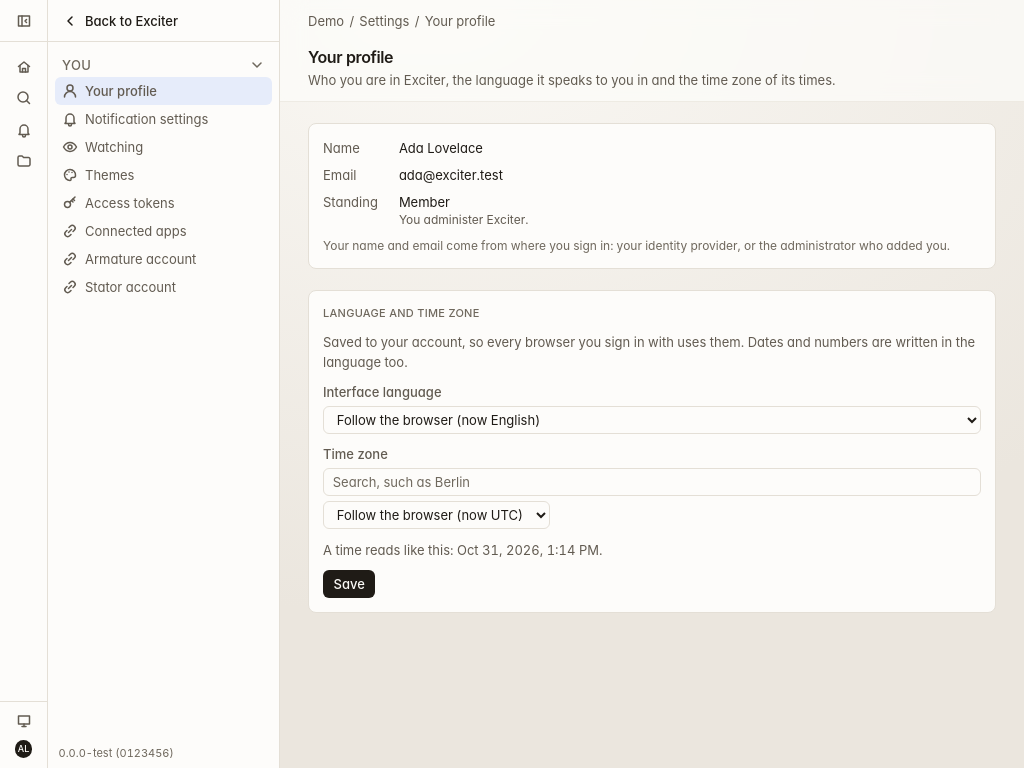
it: the interface language › saves the time zone with the language, and writes times in it
Step 1. Type "tokyo" into the search field with placeholder "Search, such as Berlin" → coordinates (652, 482), box 323,468 -> 981,496
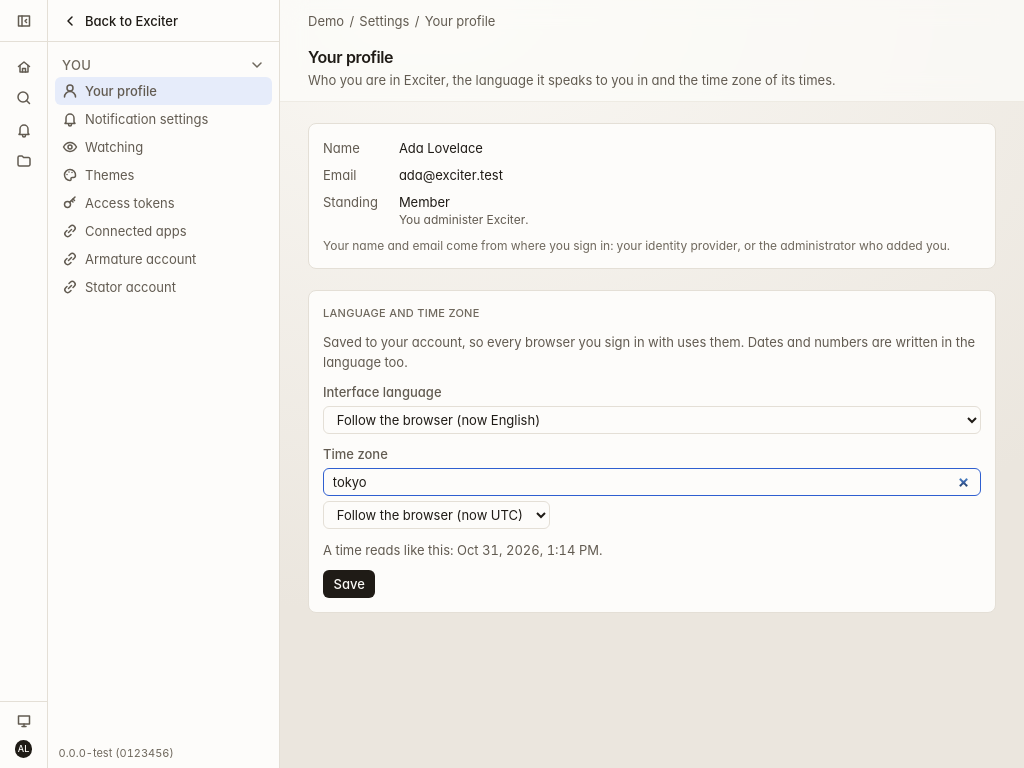
Step 2. Select "Asia/Tokyo" in the dropdown labelled "Time zone" → coordinates (436, 515), box 323,501 -> 550,529
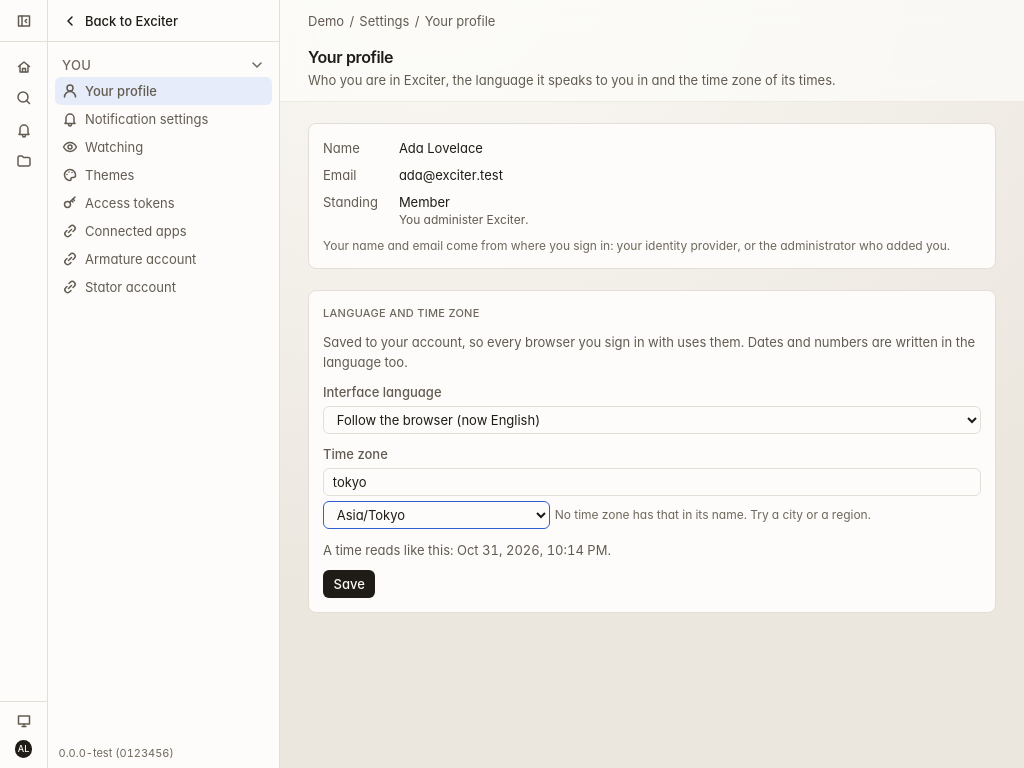
Expected: the text "A time reads like this: Oct 31, 2026, 10:14 PM." is shown, 323,542 -> 611,558
Step 3. Click the button "Save" → coordinates (349, 584), box 323,570 -> 375,598
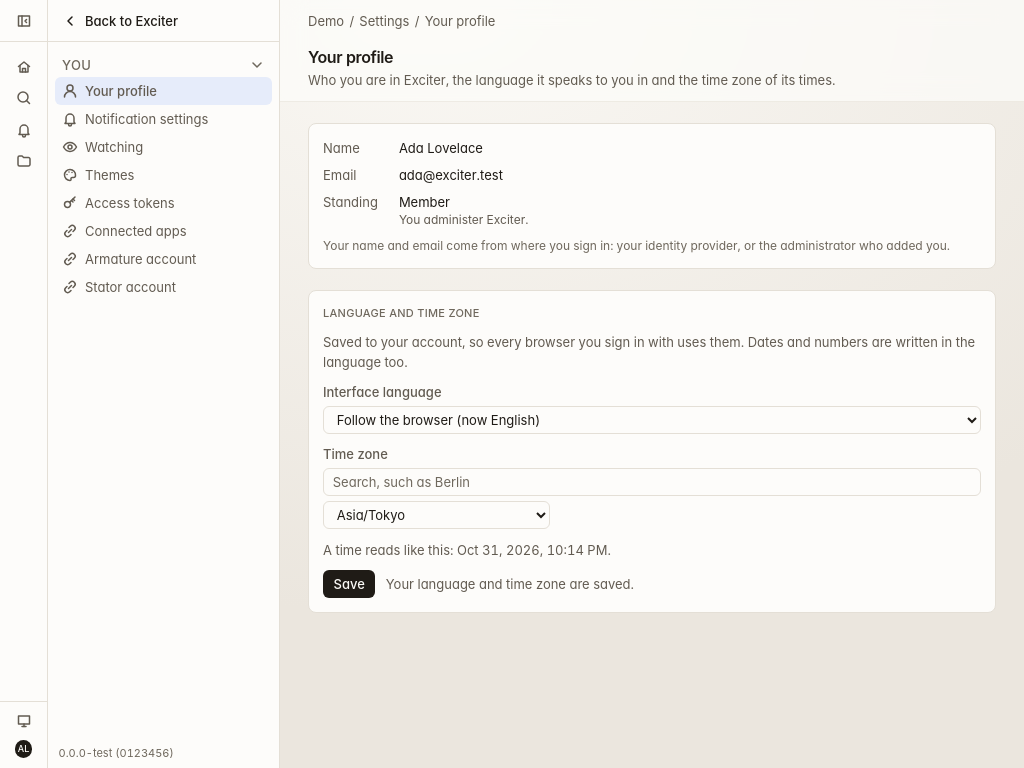
Now the dropdown labelled "Time zone" shows "Asia/Tokyo", box 323,501 -> 550,529
Now the message "Your language and time zone are saved." is shown, box 386,574 -> 634,594
